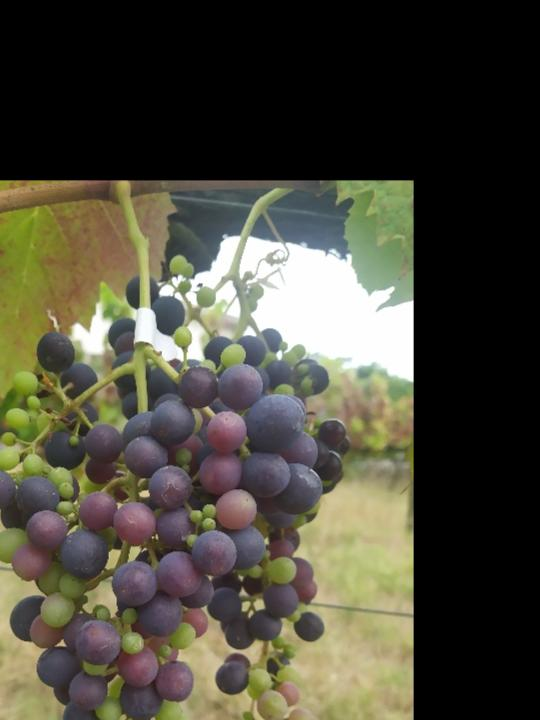grape: (0, 274, 324, 720)
